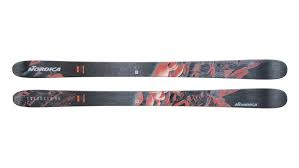skis: (10, 59, 287, 112)
